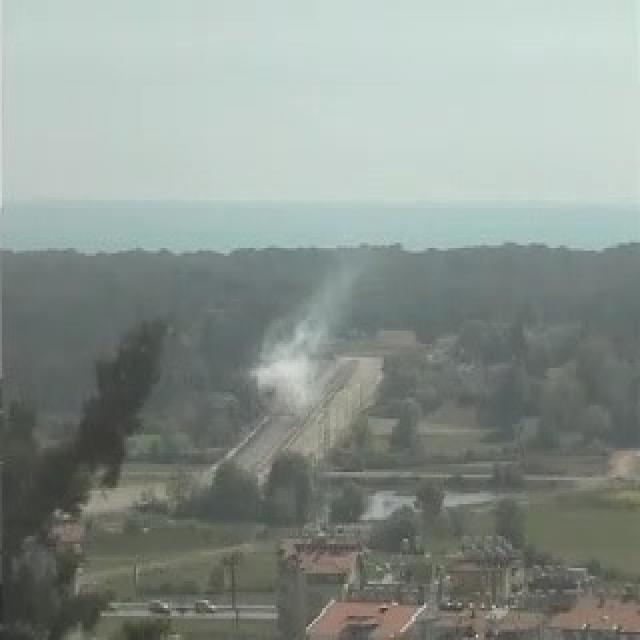smoke: (253, 295, 334, 410)
